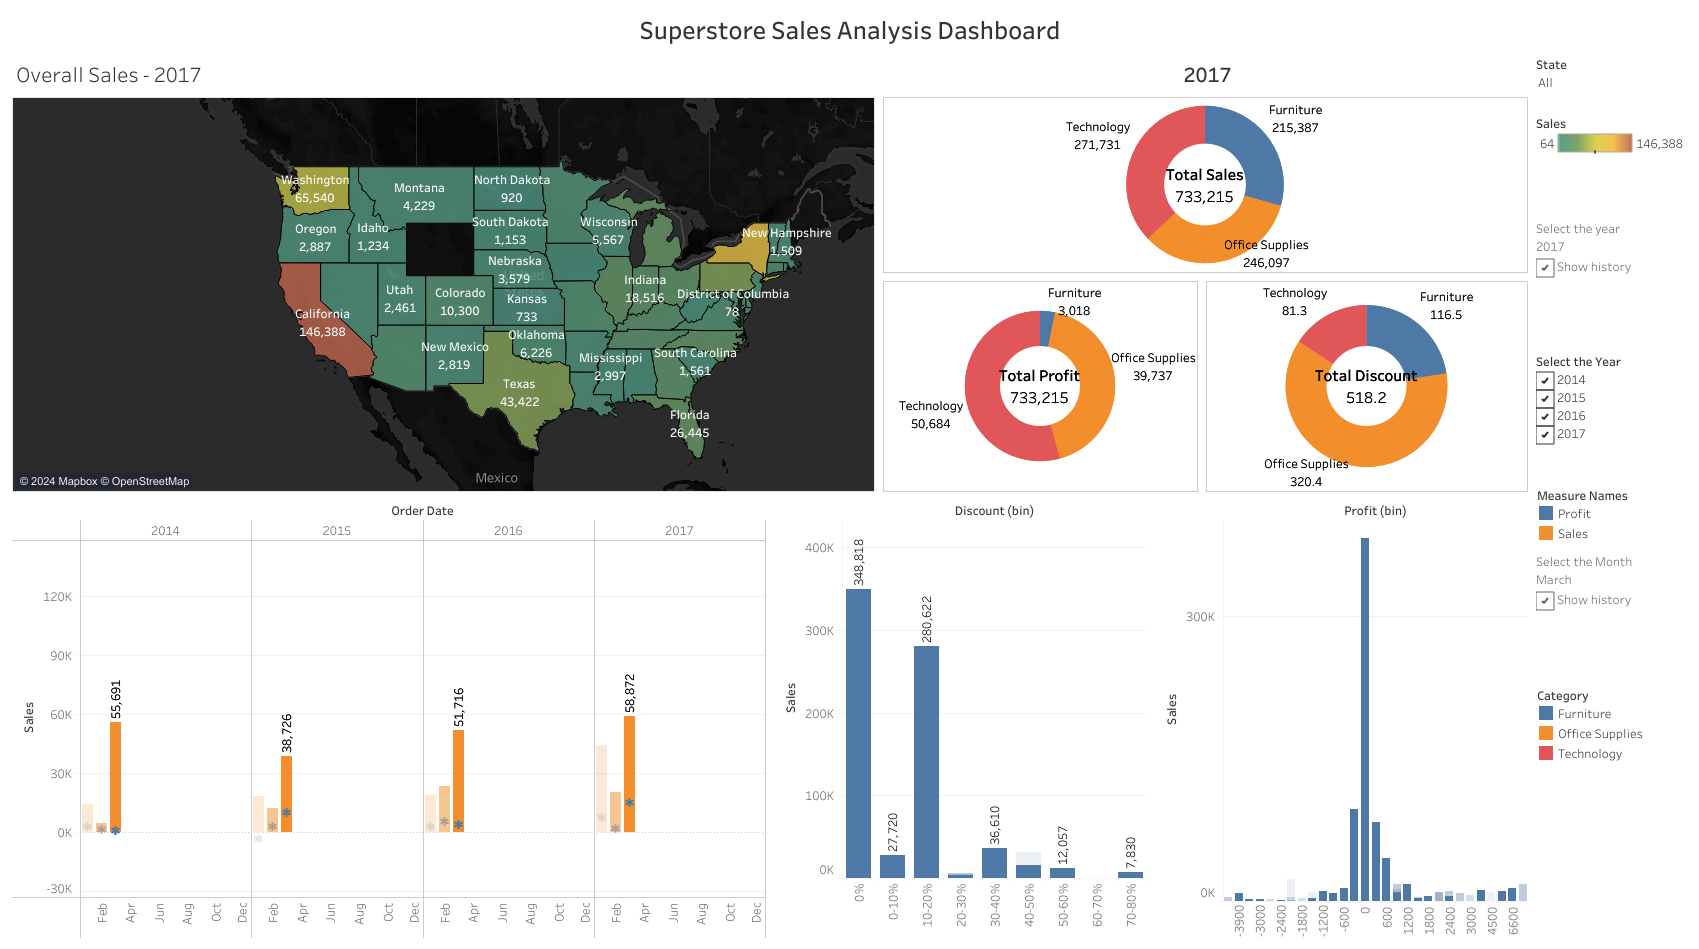

The dashboard page shown, as its layout file describes it:
{"tool":"tableau","page":{"name":"Dashboard 1","canvas":[1000,1000],"units":"permille","ordinal":0},"visuals":[{"type":"title","box":[4.7,8.4,990.6,43.2]},{"type":"worksheet","title":"Overall Sales","mark":"Automatic","box":[4.7,51.6,512.4,470]},{"type":"worksheet","title":"Sales Info","mark":"Pie","rows":["Calculation_559290825815195648","Calculation_559290825815195648"],"box":[517.1,51.6,384.1,239.5]},{"type":"filter","title":"Overall Sales","param":"[federated.11l8atc18othyq13bk81m0w37576].[none:State:nk]","box":[901.2,51.6,94.1,54.7]},{"type":"legend","title":"Overall Sales","param":"[federated.11l8atc18othyq13bk81m0w37576].[sum:Sales:qk]","box":[901.2,106.3,94.1,113.7]},{"type":"currpage","title":"Overall Sales","box":[901.2,220,94.1,115.8]},{"type":"worksheet","title":"Profit Info","mark":"Pie","rows":["Calculation_559290825815195648","Calculation_559290825815195648"],"box":[517.1,291.1,190,230.5]},{"type":"worksheet","title":"Discount Info","mark":"Pie","rows":["Calculation_559290825815195648","Calculation_559290825815195648"],"box":[707.1,291.1,194.1,230.5]},{"type":"filter","title":"Sales vs Profit","param":"[federated.11l8atc18othyq13bk81m0w37576].[yr:Order Date:ok]","box":[901.2,335.8,94.1,133.7]},{"type":"legend","title":"Sales vs Profit","param":"[federated.11l8atc18othyq13bk81m0w37576].[:Measure Names]","box":[901.2,469.5,94.1,69.5]},{"type":"worksheet","title":"Sales vs Profit","mark":"Automatic","rows":["Sales","Profit"],"cols":["Order Date","Order Date"],"box":[4.7,521.6,448.2,470]},{"type":"worksheet","title":"Discount Distribution","mark":"Automatic","rows":["Sales"],"cols":["Discount (bin)"],"box":[452.9,521.6,224.1,470]},{"type":"worksheet","title":"Profit Distribution","mark":"Automatic","rows":["Sales"],"cols":["Profit (bin)"],"box":[677.1,521.6,224.1,470]},{"type":"currpage","title":"Sales vs Profit","box":[901.2,538.9,94.1,115.8]},{"type":"legend","title":"Sales Info","param":"[federated.11l8atc18othyq13bk81m0w37576].[none:Category:nk]","box":[901.2,654.7,94.1,90.5]}]}

Visuals, with their boxes on the dashboard's canvas, which has no fixed pixel size, in thousandths of its width and height (x1, y1, x2, y2). These are canvas units, not pixel positions in the 1699x949 screenshot, which may show the page scaled, cropped or inside an application window:
title: l=5, t=8, r=995, b=52
"Overall Sales" worksheet: l=5, t=52, r=517, b=522
"Sales Info" worksheet (Pie marks): l=517, t=52, r=901, b=291
"Overall Sales" filter: l=901, t=52, r=995, b=106
"Overall Sales" legend: l=901, t=106, r=995, b=220
"Overall Sales" currpage: l=901, t=220, r=995, b=336
"Profit Info" worksheet (Pie marks): l=517, t=291, r=707, b=522
"Discount Info" worksheet (Pie marks): l=707, t=291, r=901, b=522
"Sales vs Profit" filter: l=901, t=336, r=995, b=470
"Sales vs Profit" legend: l=901, t=470, r=995, b=539
"Sales vs Profit" worksheet: l=5, t=522, r=453, b=992
"Discount Distribution" worksheet: l=453, t=522, r=677, b=992
"Profit Distribution" worksheet: l=677, t=522, r=901, b=992
"Sales vs Profit" currpage: l=901, t=539, r=995, b=655
"Sales Info" legend: l=901, t=655, r=995, b=745
